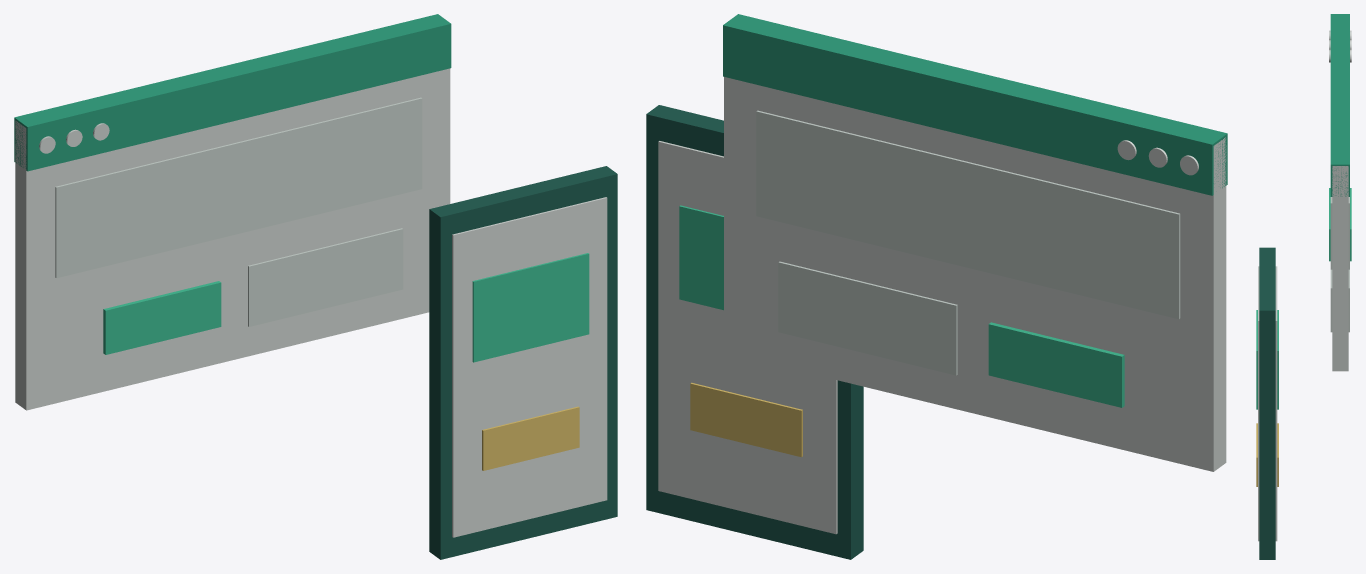
The model's file is scene-03-devices.glb.
3 views of the same model, side by side, from view 1: azimuth 30°, elevation 25°; view 2: azimuth 150°, elevation 25°; view 3: azimuth 270°, elevation 25° (orthographic). The views are drawn at different scales.
Parts seen in each view (by area): view 1: browser, screen, hero, bar, phone, pblk, card, btn, pbtn; view 2: browser, hero, bar, screen, phone, card, btn, pbtn, pblk; view 3: phone, browser, bar, screen, pblk, hero, card, btn, pbtn.
Boxes of the visible parts, x1,y1,x2,y2 form: browser: [15, 68, 450, 410]; screen: [452, 197, 607, 537]; hero: [55, 97, 422, 278]; bar: [14, 14, 451, 171]; phone: [429, 166, 617, 559]; pblk: [472, 253, 589, 362]; card: [248, 228, 403, 326]; btn: [103, 281, 221, 354]; pbtn: [482, 406, 579, 470]; browser: [724, 77, 1226, 471]; hero: [756, 110, 1180, 319]; bar: [723, 14, 1227, 195]; screen: [658, 141, 837, 534]; phone: [646, 105, 863, 559]; card: [778, 261, 957, 375]; btn: [988, 322, 1124, 407]; pbtn: [690, 382, 802, 457]; pblk: [679, 205, 723, 310]; phone: [1259, 247, 1275, 559]; browser: [1332, 166, 1348, 371]; bar: [1330, 14, 1349, 196]; screen: [1258, 266, 1277, 541]; pblk: [1256, 310, 1278, 409]; hero: [1330, 197, 1349, 269]; card: [1330, 269, 1349, 332]; btn: [1329, 188, 1351, 261]; pbtn: [1256, 423, 1278, 486].
Bounding box in the file's own units: 2.81 × 2.41 × 0.59.
